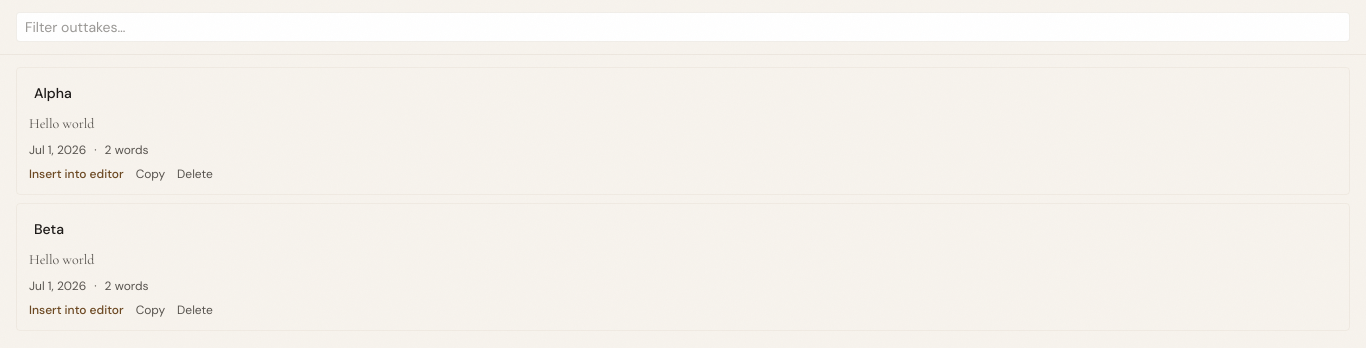
it: OuttakesPanel › shows the no-matches message when a filter matches zero of several rows
Expected: the 1st field showing "Alpha" is shown, [29,80,1337,106]
Type "zzznope" into the field labelled "Filter outtakes…" at (683, 27), box [16,12,1350,42]
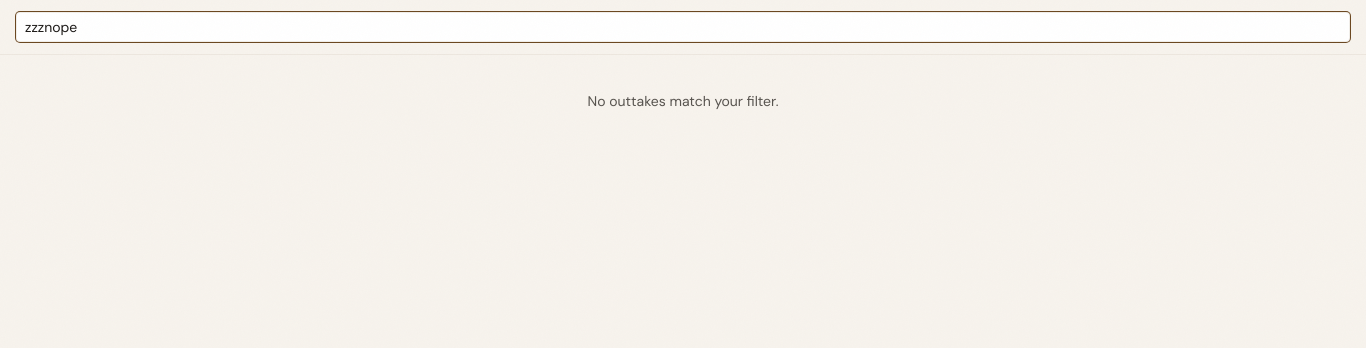
Expected: the text "No outtakes match your filter." is shown, [588,92,778,110]
